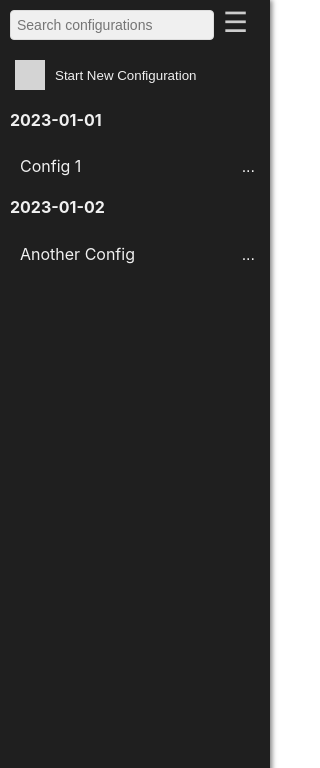
CompressionSidebarPanel › dynamically filters configurations as user types (1.2.8)
Type "another" into the field with placeholder "Search configurations" at (112, 25), box [10,10,214,40]
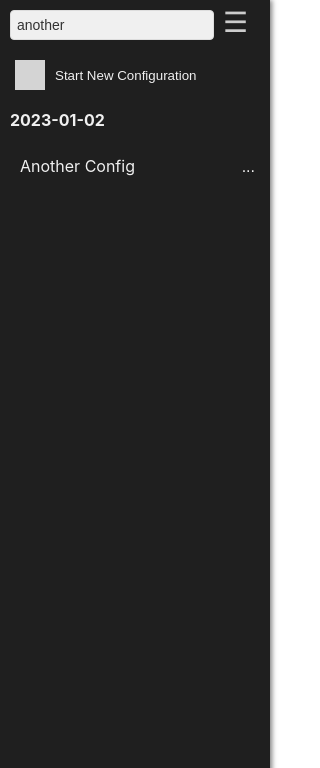
Expected: the text "Another Config" is shown, [20,156,135,176]
Expected: the text "Config 1" is gone
